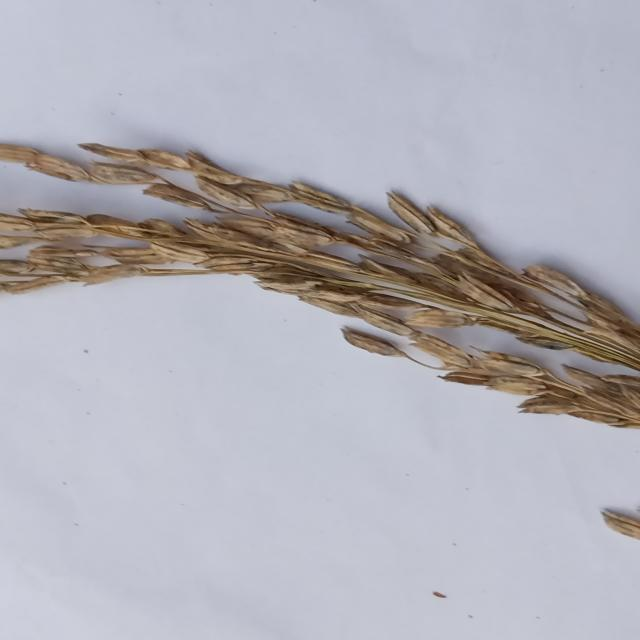Neck_Blast: (0, 216, 640, 441), (0, 129, 640, 354)
